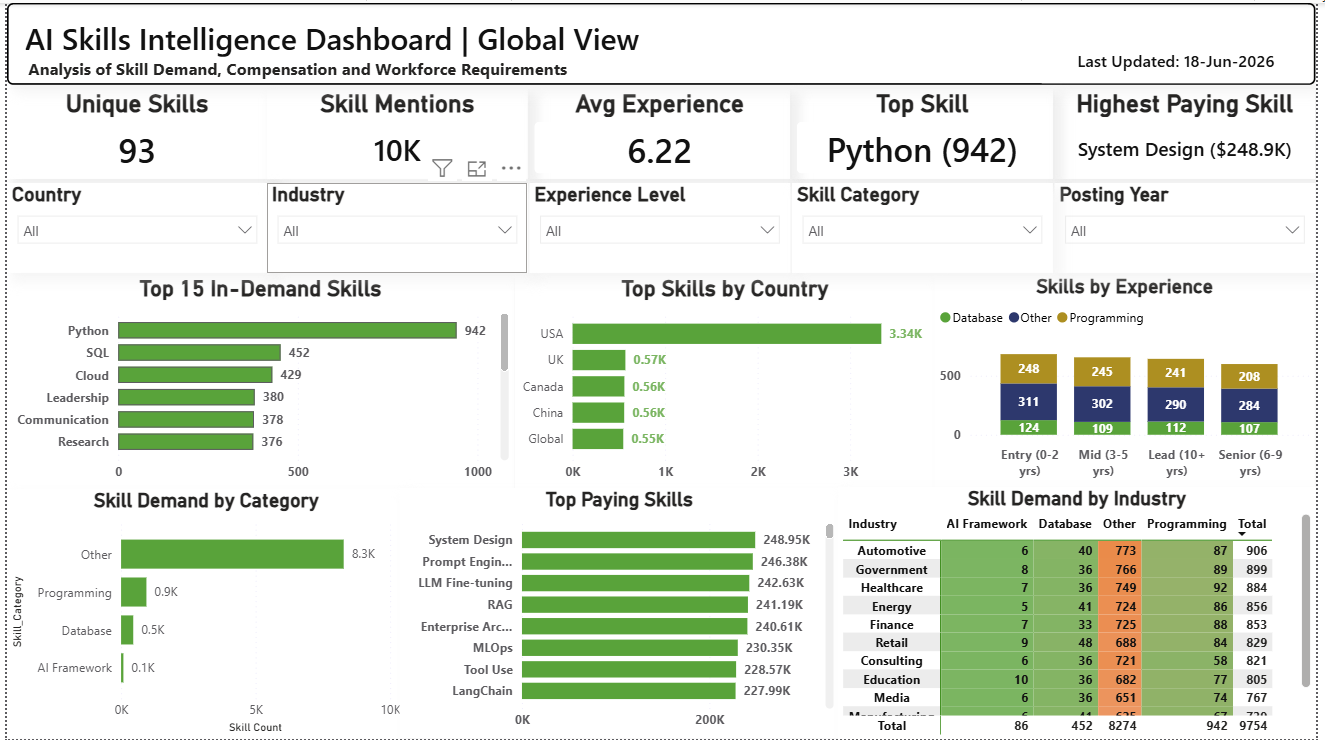

What the dashboard file says about the page in this screenshot:
{"tool":"powerbi","page":{"name":"Skills Intelligence","canvas":[1280,720],"ordinal":1},"visuals":[{"type":"cardVisual","title":"Unique Skills","fields":{"Data":["Measure_Table.Unique Skills"]},"box":[0,84,255,88],"z":0},{"type":"cardVisual","title":"Skill Mentions","fields":{"Data":["Measure_Table.Total Skill Mentions"]},"box":[254,84,255,88],"z":1000},{"type":"cardVisual","title":"Avg Experience","fields":{"Data":["Measure_Table.Skills Per Job"]},"box":[511,84,255,88],"z":2000},{"type":"cardVisual","fields":{"Data":["Measure_Table.Page2_Dynamic_Title"]},"box":[0,0,1280,80],"z":3000},{"type":"cardVisual","fields":{"Data":["Measure_Table.Last Refresh"]},"box":[1008,30,272,48],"z":4000},{"type":"clusteredBarChart","title":"Top 15 In-Demand Skills","fields":{"Y":["Measure_Table.Skill Count"],"Category":["fact_skills.required_skills"]},"box":[0,266,496,210],"z":5000},{"type":"cardVisual","title":"Highest Paying Skill","fields":{"Data":["Measure_Table.Highest Paying Skill"]},"box":[1025,84,255,88],"z":6000},{"type":"clusteredBarChart","title":"Top Skills by Country","fields":{"Category":["Dim_Country.Country"],"Y":["Measure_Table.Skill Count"]},"box":[496,266,412,210],"z":7000},{"type":"barChart","title":"Skill Demand by Category","fields":{"Category":["dim_skill.Skill_Category"],"Y":["Measure_Table.Skill Count"]},"box":[0,476,390,244],"z":8000},{"type":"columnChart","title":"Skills by Experience","fields":{"Category":["fact_skills.experience_level"],"Y":["Measure_Table.Skill Count"],"Series":["dim_skill.Skill_Category"]},"box":[907,266,372,207],"z":9000},{"type":"clusteredBarChart","title":"Top Paying Skills","fields":{"Category":["fact_skills.required_skills"],"Y":["Measure_Table.Avg Skill Salary"]},"box":[384,475,430,245],"z":10000},{"type":"textbox","box":[16,48,560,32],"z":11000},{"type":"cardVisual","title":"Top Skill","fields":{"Data":["Measure_Table.Top Skill Display"]},"box":[768,84,255,88],"z":12000},{"type":"slicer","title":"Country","fields":{"Values":["Dim_Country.Country"]},"box":[0,176,255,88],"z":13000},{"type":"slicer","title":"Industry","fields":{"Values":["Dim_Industry.Industry"]},"box":[254,176,255,88],"z":14000},{"type":"slicer","title":"Posting Year","fields":{"Values":["Dim_Date.Year"]},"box":[1025,176,255,88],"z":15000},{"type":"slicer","title":"Experience Level","fields":{"Values":["Dim_Experience.Experience_Level"]},"box":[511,176,255,88],"z":16000},{"type":"slicer","title":"Skill Category","fields":{"Values":["Dim_Company_Size.Company_Size"]},"box":[768,176,255,88],"z":17000},{"type":"pivotTable","title":"Skill Demand by Industry","fields":{"Rows":["Dim_Industry.Industry"],"Columns":["dim_skill.Skill_Category"],"Values":["Measure_Table.Skill Count"]},"box":[813,473,467,247],"z":18000}]}

Visuals, with their boxes in screenshot pixels (x1, y1, x2, y2), scaled from the page's 1280x720 canvas onto the 1325x742 screenshot:
"Unique Skills" cardVisual: locate(0, 87, 264, 177)
"Skill Mentions" cardVisual: locate(263, 87, 527, 177)
"Avg Experience" cardVisual: locate(529, 87, 793, 177)
cardVisual - Measure_Table.Page2_Dynamic_Title: locate(0, 0, 1324, 82)
cardVisual - Measure_Table.Last Refresh: locate(1043, 31, 1324, 80)
"Top 15 In-Demand Skills" clusteredBarChart: locate(0, 274, 513, 491)
"Highest Paying Skill" cardVisual: locate(1061, 87, 1324, 177)
"Top Skills by Country" clusteredBarChart: locate(513, 274, 940, 491)
"Skill Demand by Category" barChart: locate(0, 491, 404, 741)
"Skills by Experience" columnChart: locate(939, 274, 1324, 487)
"Top Paying Skills" clusteredBarChart: locate(398, 490, 843, 741)
textbox: locate(17, 49, 596, 82)
"Top Skill" cardVisual: locate(795, 87, 1059, 177)
"Country" slicer: locate(0, 181, 264, 272)
"Industry" slicer: locate(263, 181, 527, 272)
"Posting Year" slicer: locate(1061, 181, 1324, 272)
"Experience Level" slicer: locate(529, 181, 793, 272)
"Skill Category" slicer: locate(795, 181, 1059, 272)
"Skill Demand by Industry" pivotTable: locate(842, 487, 1324, 741)
